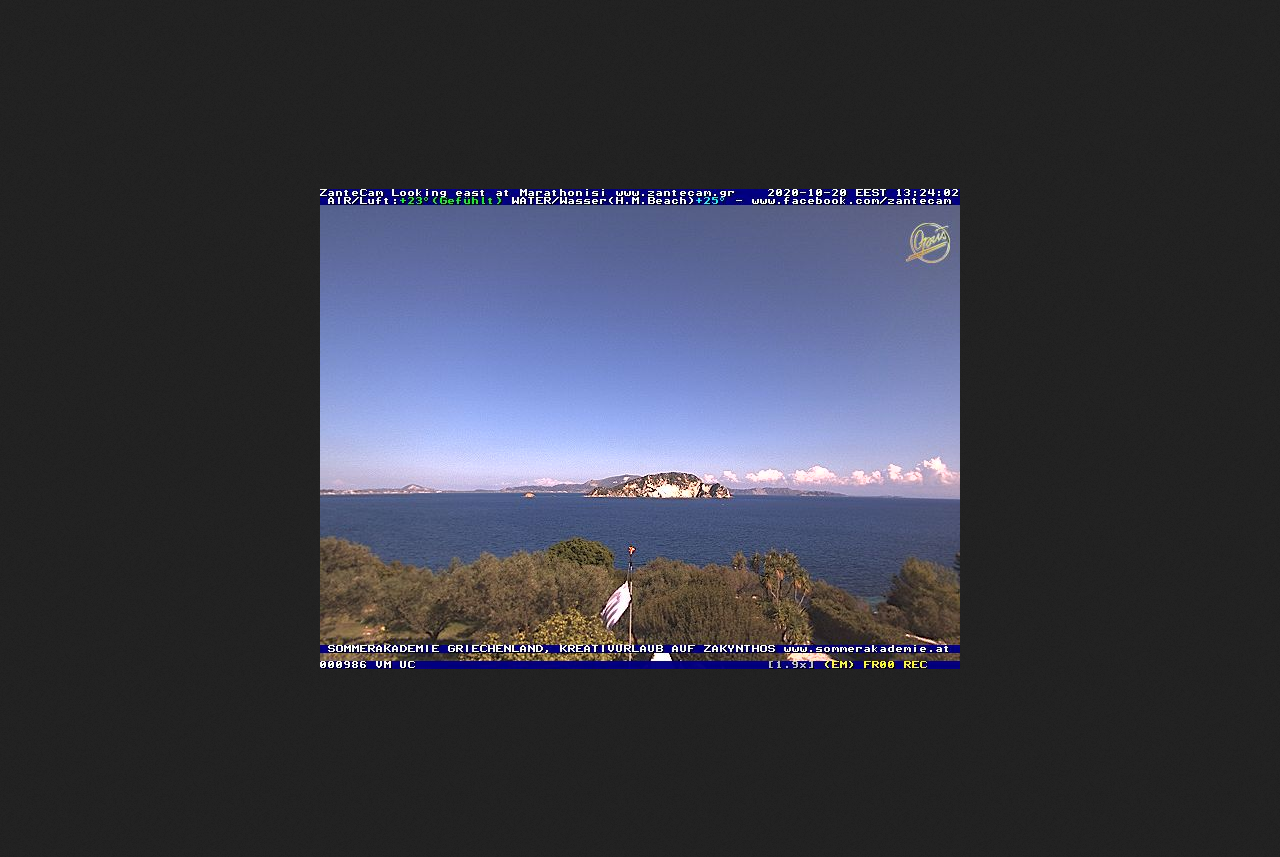maybe: (599, 579, 630, 632)
